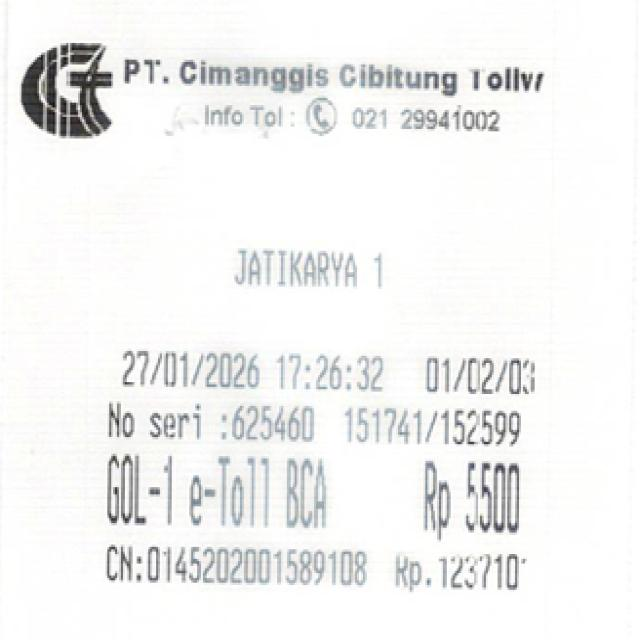date: (125, 347, 389, 398)
store: (117, 52, 553, 100)
total: (408, 455, 525, 541)
